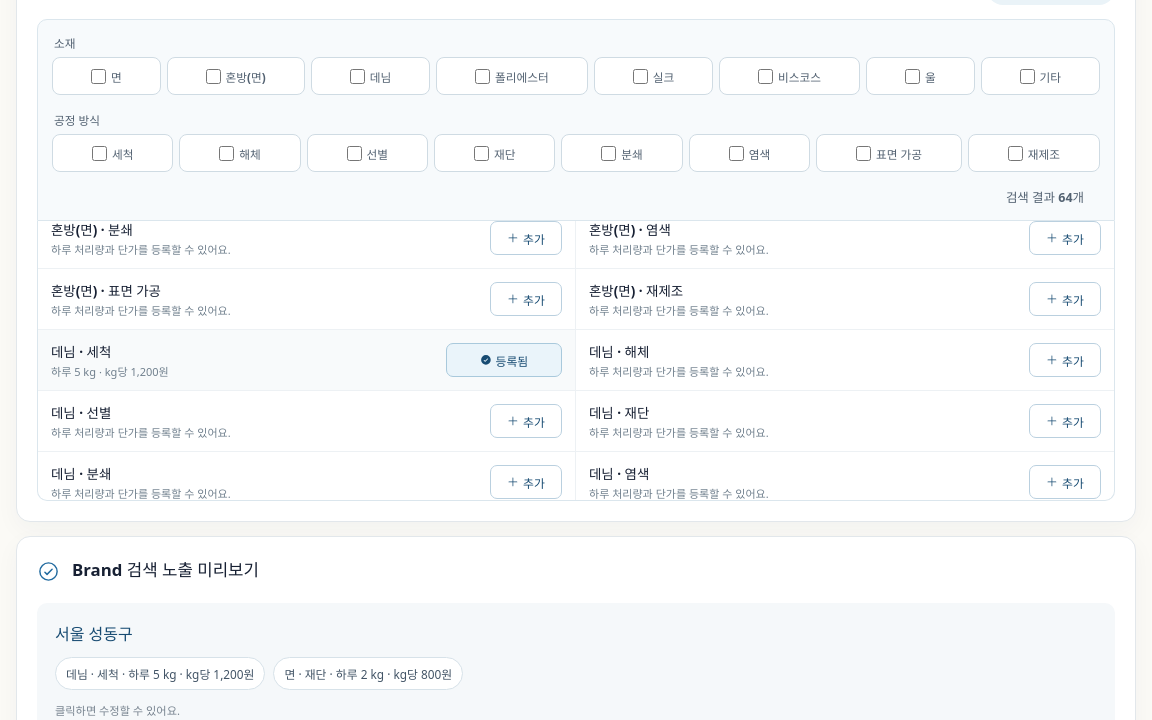
Scenario: 하루 처리량과 단가를 적으면 브랜드에게 보일 금액과 소요일을 알려준다
The image size is (1152, 720).
(page scrolled)
Click the button with aria-label "데님 · 세척 등록됨" at (504, 360), box [446,343,562,377]
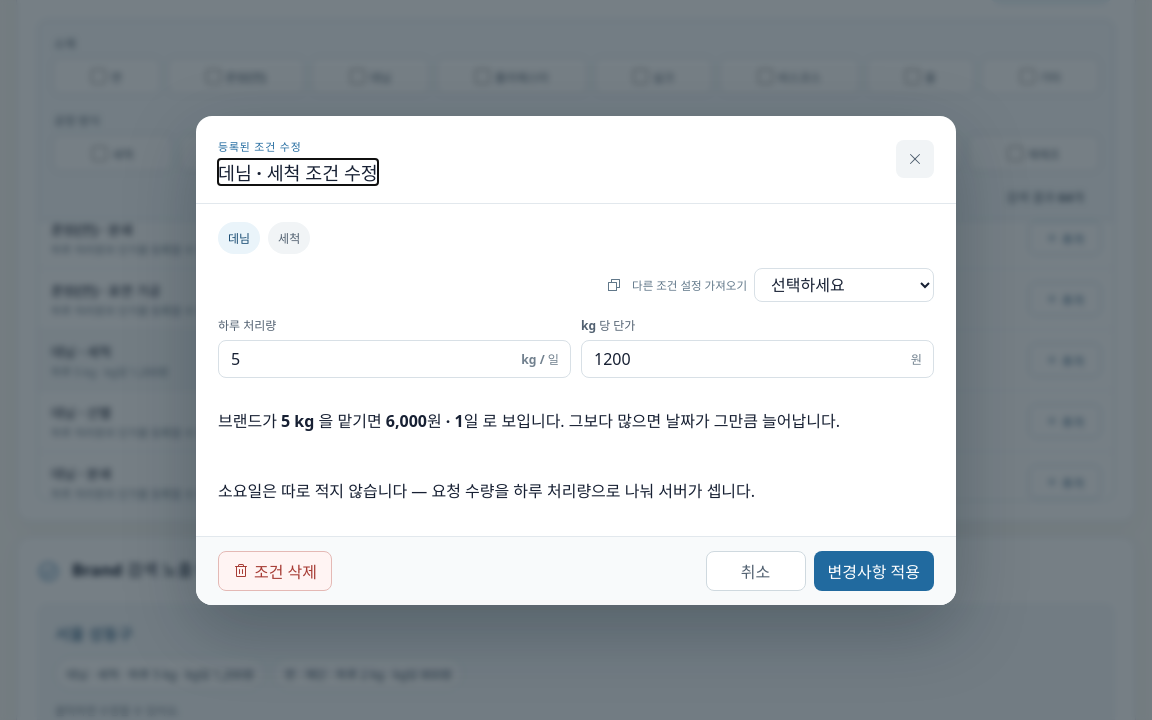
Clear the field labelled "하루 처리량" at (394, 358), box [218,340,571,378]
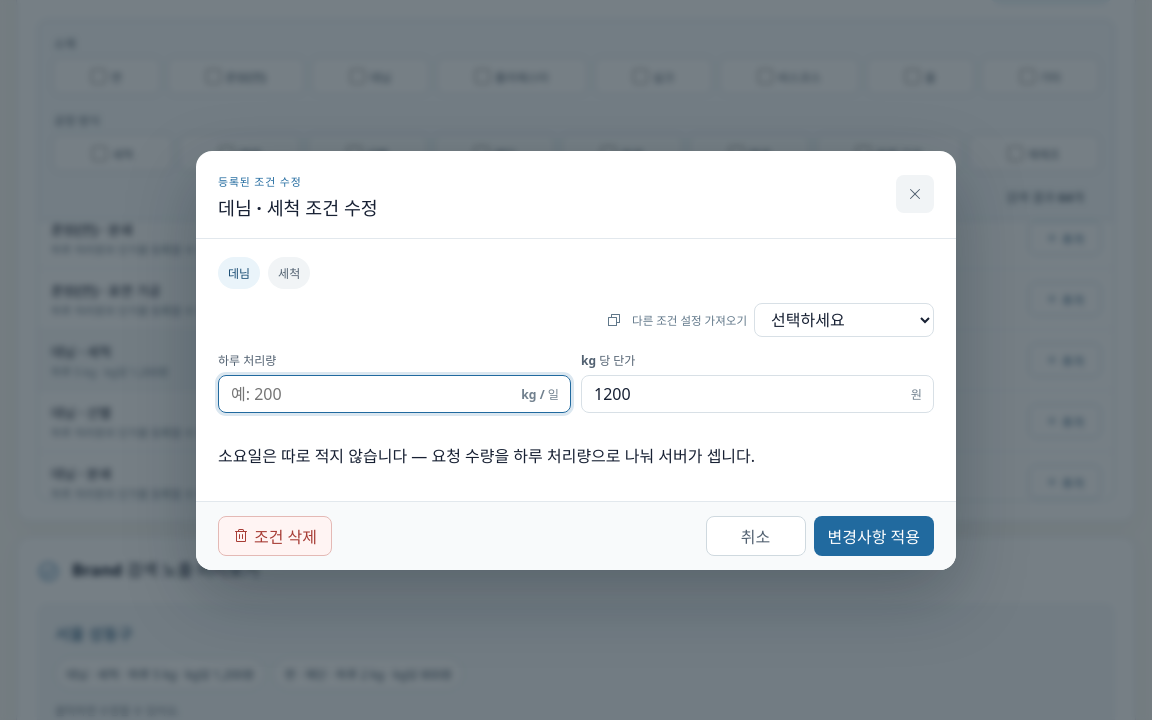
Type "100" into the field labelled "하루 처리량" at (394, 394), box [218,374,571,412]
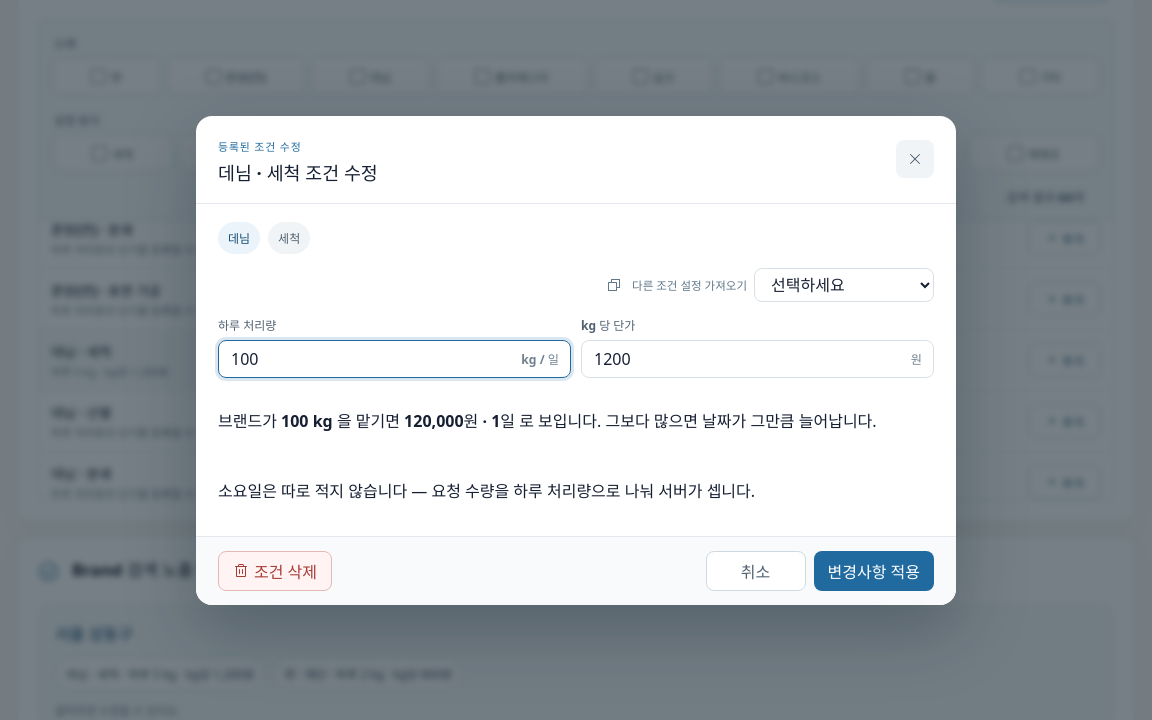
Clear the field labelled "kg 당 단가" at (758, 358), box [581,340,934,378]
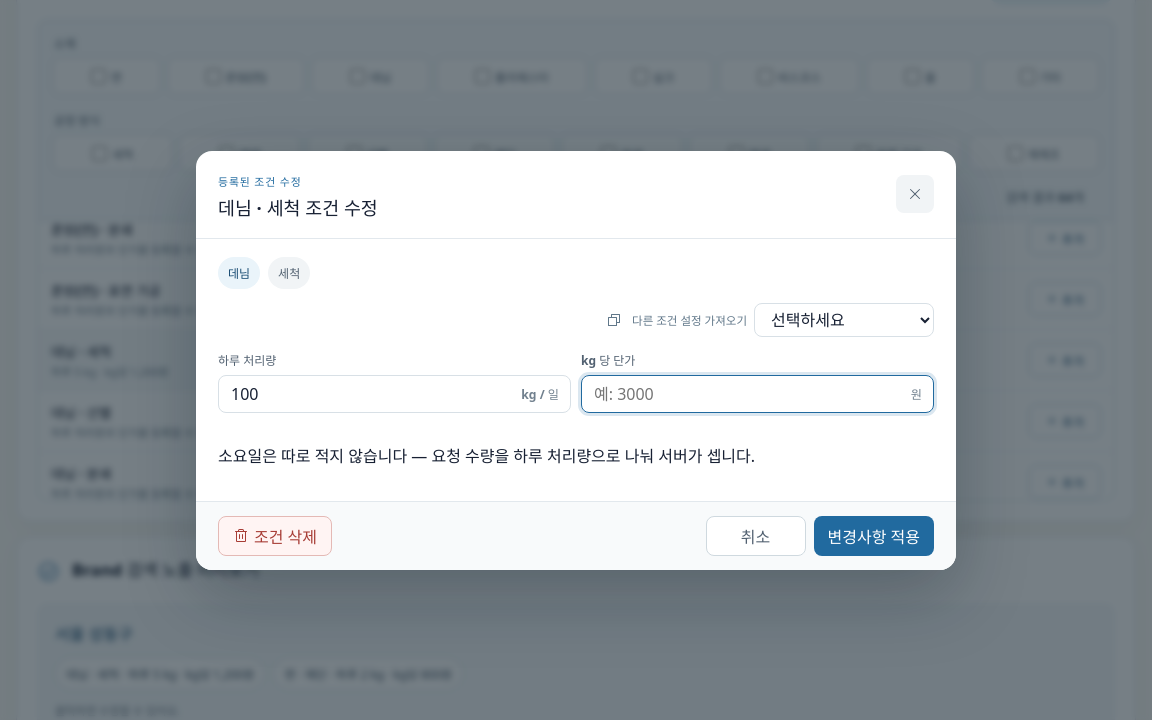
Type "2000" into the field labelled "kg 당 단가" at (758, 394), box [581,374,934,412]
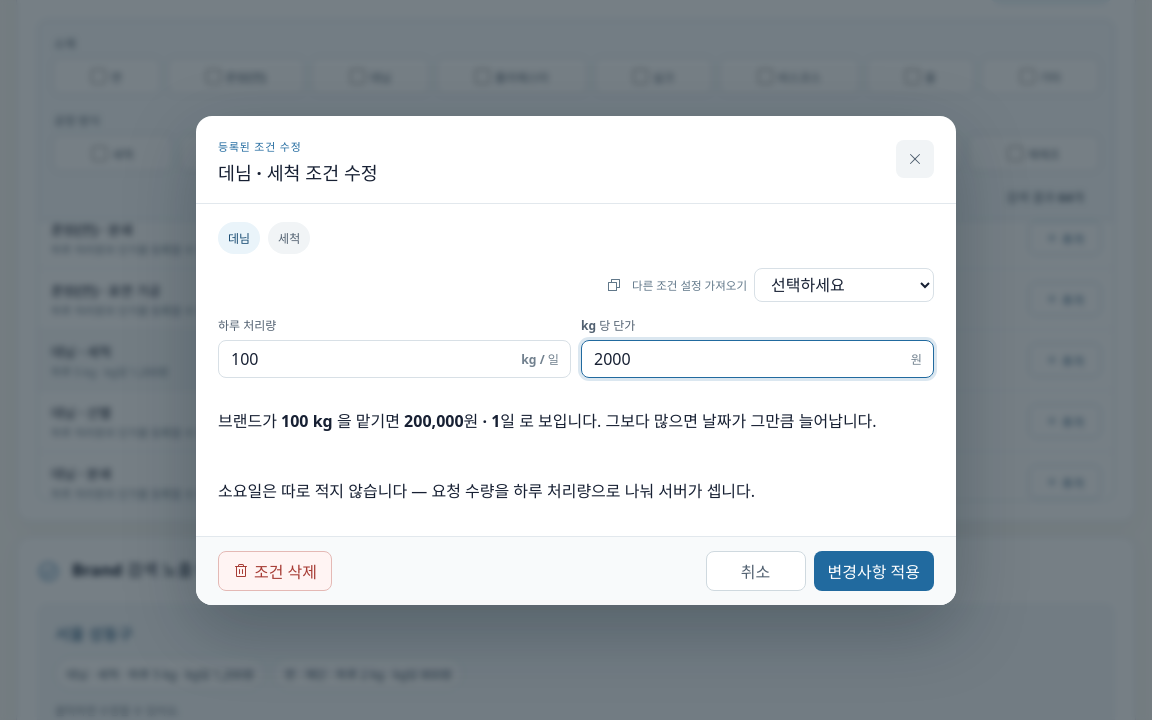
Expected: the text "200,000원 · 1일" is shown, [404,410,515,432]
